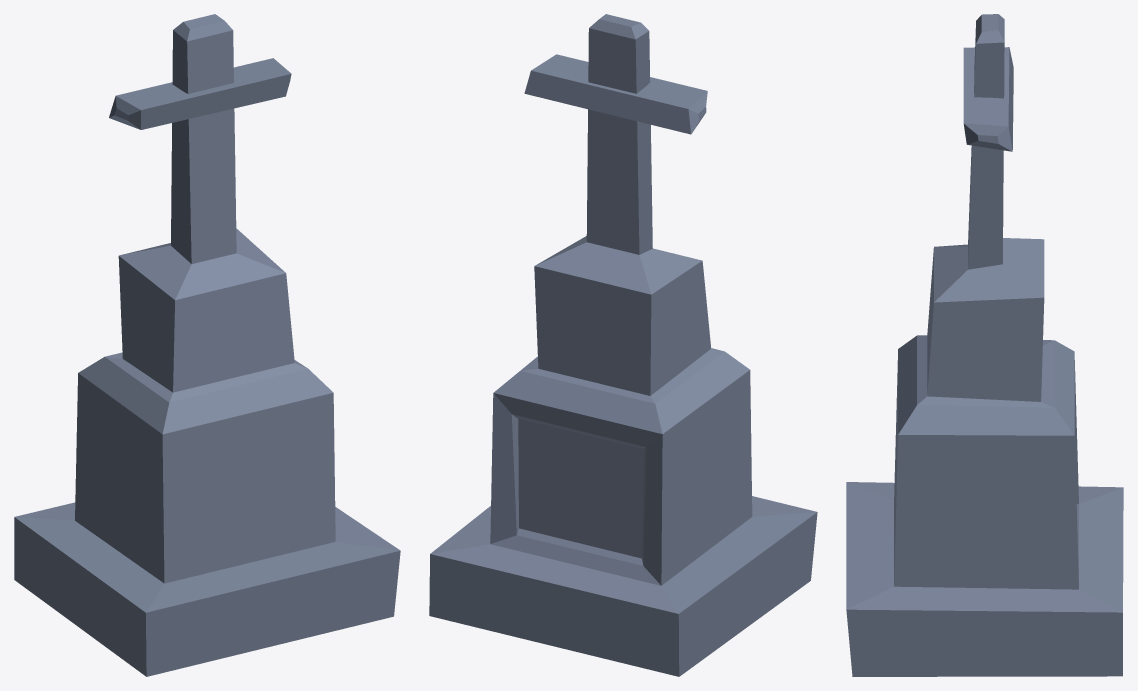
File: thombstone.glb
The picture shows the model from 3 angles, left to right: view 1: azimuth 30°, elevation 25°; view 2: azimuth 150°, elevation 25°; view 3: azimuth 270°, elevation 25°; orthographic projection. The views are drawn at different scales.
Parts seen in each view (by area): view 1: Cube; view 2: Cube; view 3: Cube.
Boxes of the visible parts, box(x1,y1,x2,y2) form: Cube: box(14, 14, 400, 676); Cube: box(429, 14, 817, 676); Cube: box(846, 14, 1123, 676).
Bounding box in the file's own units: 0.5288 × 1.14 × 0.4848.
